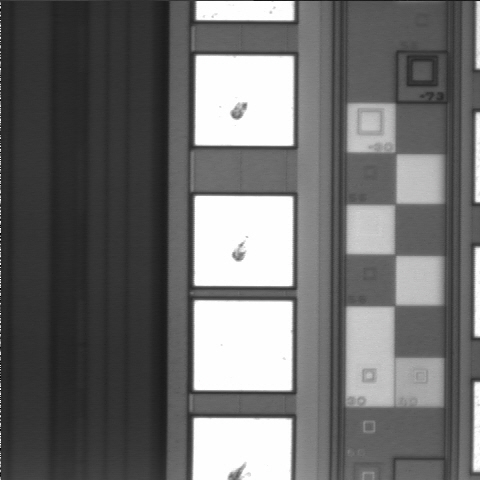pad: (195, 56, 294, 146), (194, 196, 293, 286), (194, 300, 292, 390)
